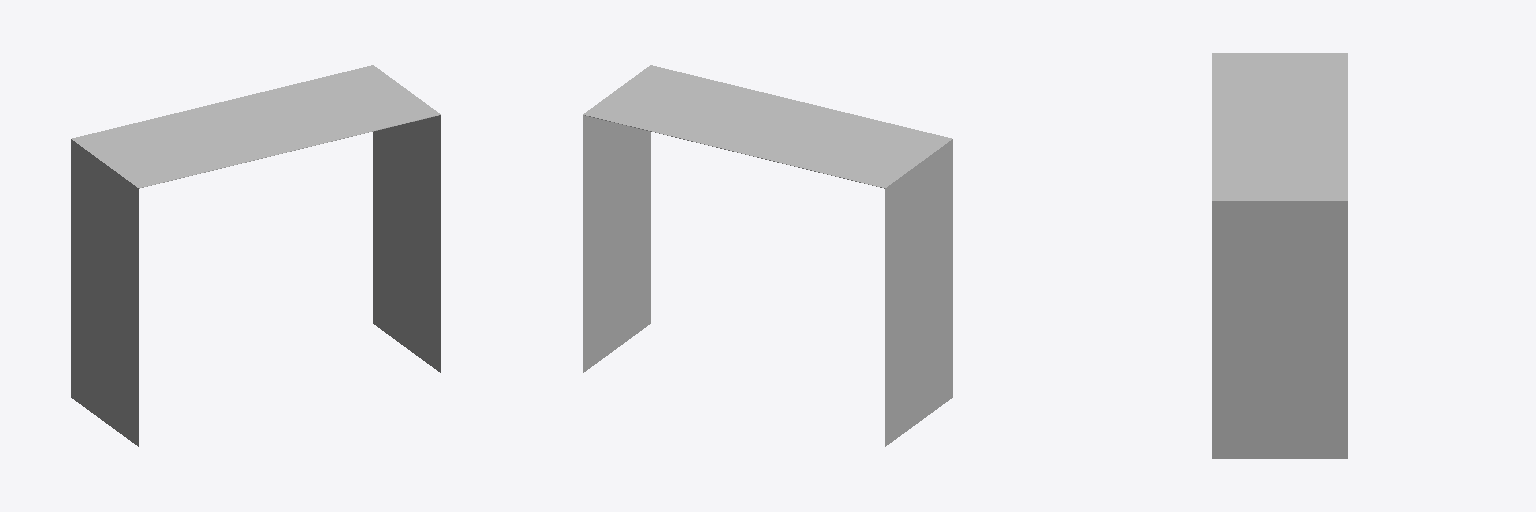
The model's file is arena_wall.obj.
3 renders of one model, left to right at view 1: azimuth 30°, elevation 25°; view 2: azimuth 150°, elevation 25°; view 3: azimuth 270°, elevation 25°, orthographic.
Visible parts, largest first — view 1: mesh4, mesh7, mesh1; view 2: mesh4, mesh7, mesh1; view 3: mesh3, mesh4.
Boxes of the visible parts, x1=… form: mesh4: x1=72, y1=65, x2=440, y2=187; mesh7: x1=71, y1=139, x2=138, y2=446; mesh1: x1=373, y1=115, x2=440, y2=372; mesh4: x1=583, y1=65, x2=951, y2=187; mesh7: x1=885, y1=139, x2=952, y2=446; mesh1: x1=583, y1=115, x2=650, y2=372; mesh3: x1=1212, y1=201, x2=1347, y2=458; mesh4: x1=1212, y1=53, x2=1347, y2=200.
Size of the model in its own units: 10.3 by 8.41 by 4.